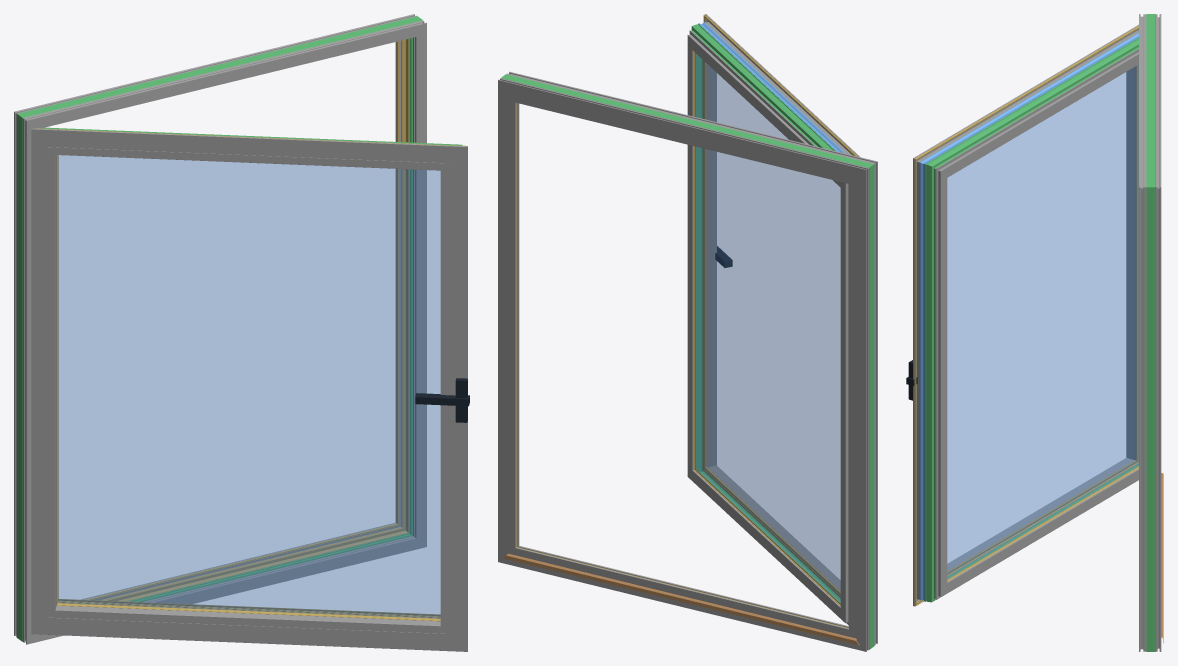
File: 2_4_Oeffnungselemnt_Vertikal-1.2x1.5-batant-right-handle-e7f57deb432f.glb
The picture shows the model from 3 angles, left to right: view 1: azimuth 30°, elevation 25°; view 2: azimuth 150°, elevation 25°; view 3: azimuth 270°, elevation 25°; orthographic projection. The views are drawn at different scales.
Parts seen in each view (by area): view 1: Configured window; view 2: Configured window; view 3: Configured window.
Boxes of the visible parts, x1,y1,x2,y2 form: Configured window: (14,14,469,651); Configured window: (498,14,877,651); Configured window: (906,14,1163,651).
Size of the model in its own units: 1.2 by 1.5 by 0.7525.
